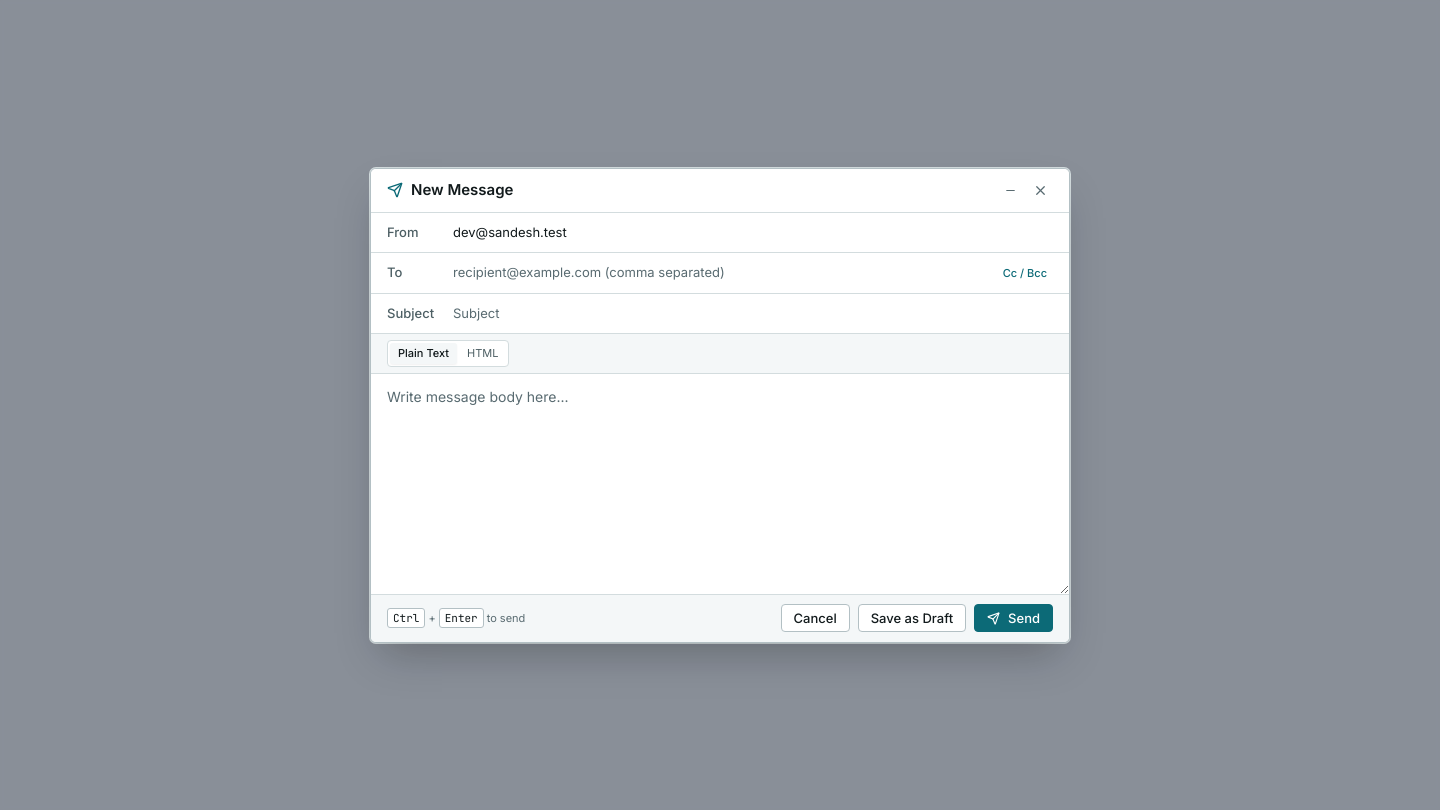
MessageComposer & RichTextEditor › switches to RichTextEditor when HTML tab is clicked
The width and height of the screenshot is (1440, 810).
Step 1. Click the button "HTML" → (483,353), box [459,343,506,364]
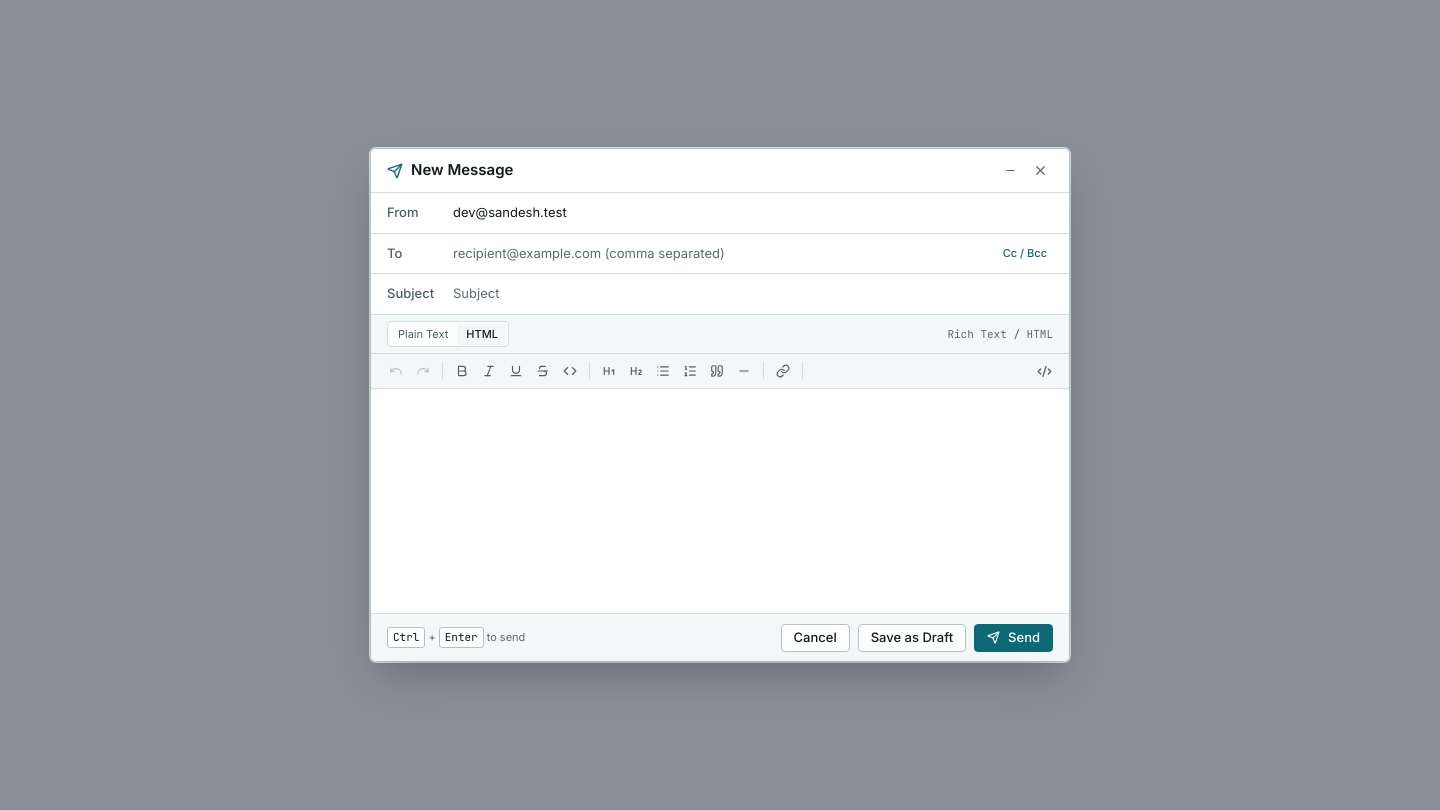
expect the element named "Formatting options" is shown: met, box [371,354,1069,389]
expect the button named "Bold" is shown: met, box [449,358,475,384]
expect the button named "Italic" is shown: met, box [476,358,502,384]
